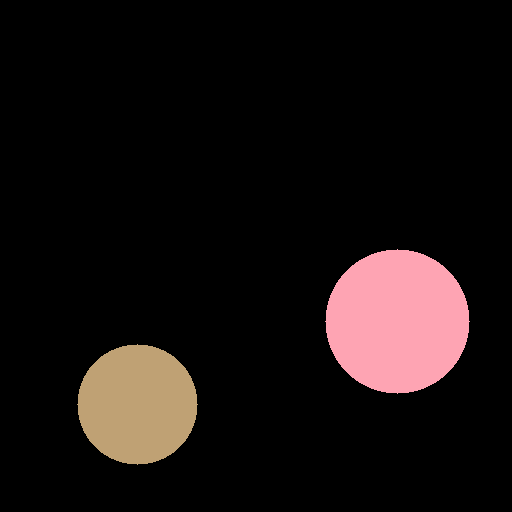circle: (325, 249, 469, 393), (77, 344, 197, 464)
